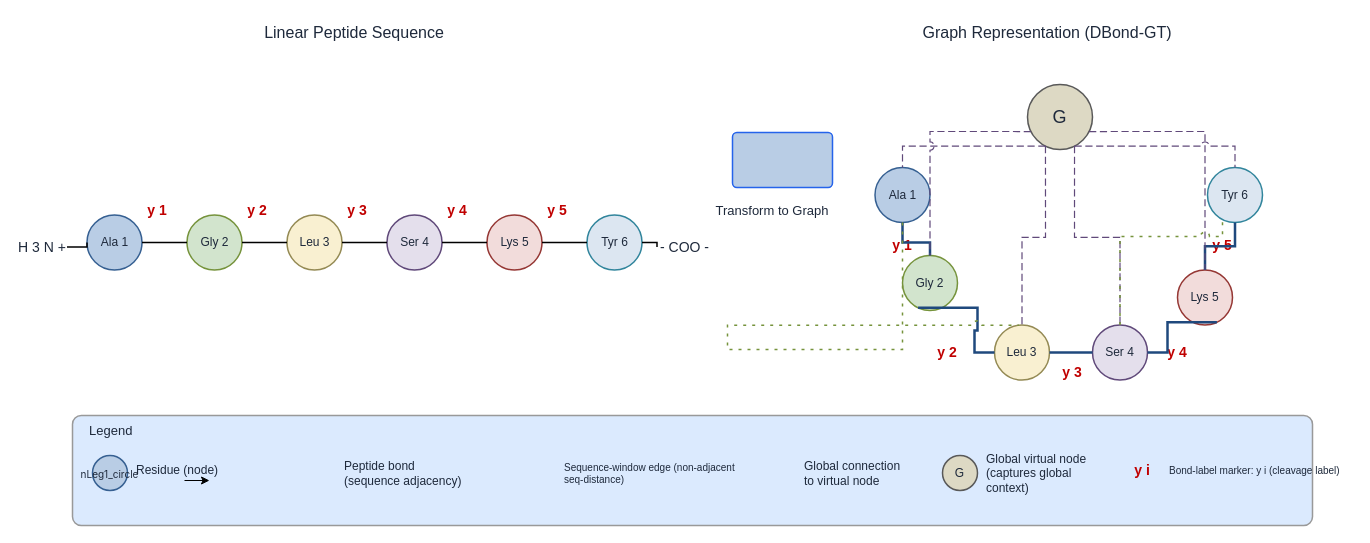
This 1370x543 diagram has some shape labels left out. The shapes that lost their labels are listed below. From the top down, each one's box as (x1, y1, x2, y2) in pixels, then its label:
(731, 131, 833, 188): nM_arrow
(71, 414, 1313, 526): nLeg_box
